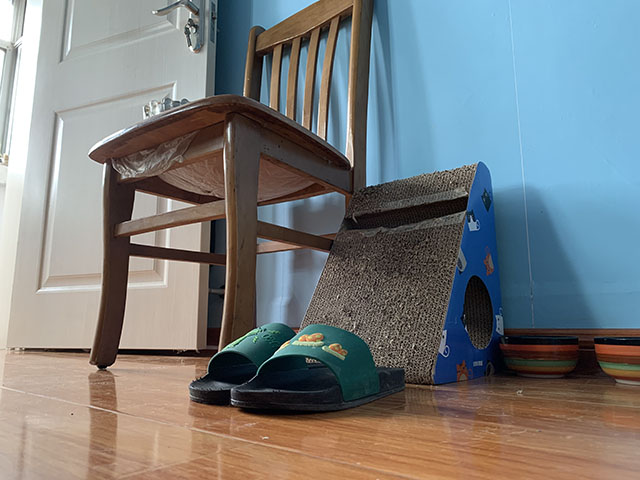slippers: (229, 318, 407, 415)
stool: (87, 1, 374, 371)
